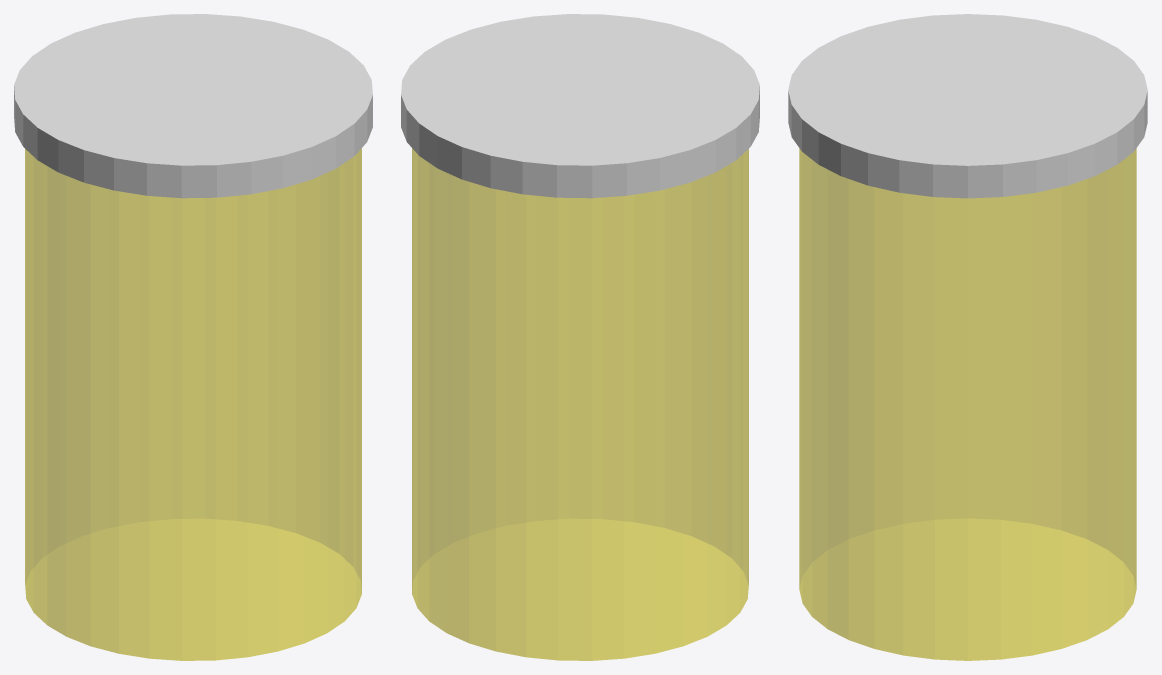
The model's file is pillbox (1).fbx.
3 renders of one model, left to right at view 1: azimuth 30°, elevation 25°; view 2: azimuth 150°, elevation 25°; view 3: azimuth 270°, elevation 25°, orthographic.
Visible parts, largest first — view 1: Circle, Circle.001; view 2: Circle, Circle.001; view 3: Circle, Circle.001.
Boxes of the visible parts, x1,y1,x2,y2 form: Circle: (25,148,361,660); Circle.001: (14,14,372,198); Circle: (412,148,748,660); Circle.001: (401,14,759,198); Circle: (799,148,1136,660); Circle.001: (788,14,1147,198).
Size of the model in its own units: 11.56 by 17.73 by 11.56.
